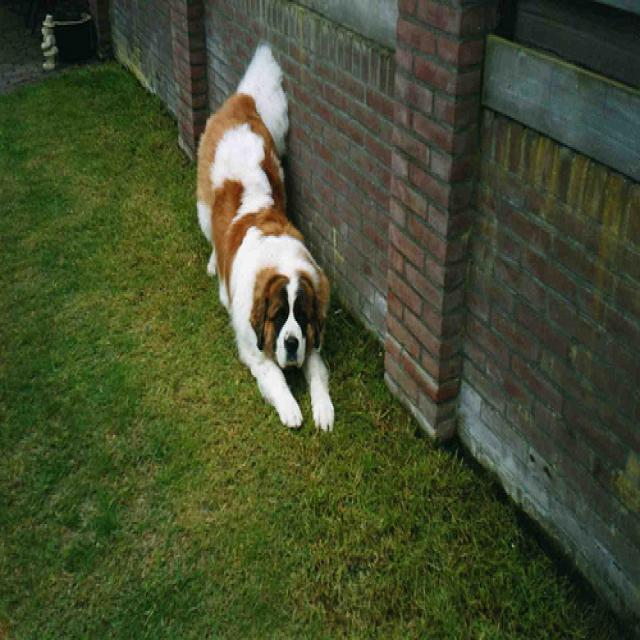dog-saint_bernard: (188, 35, 344, 443)
